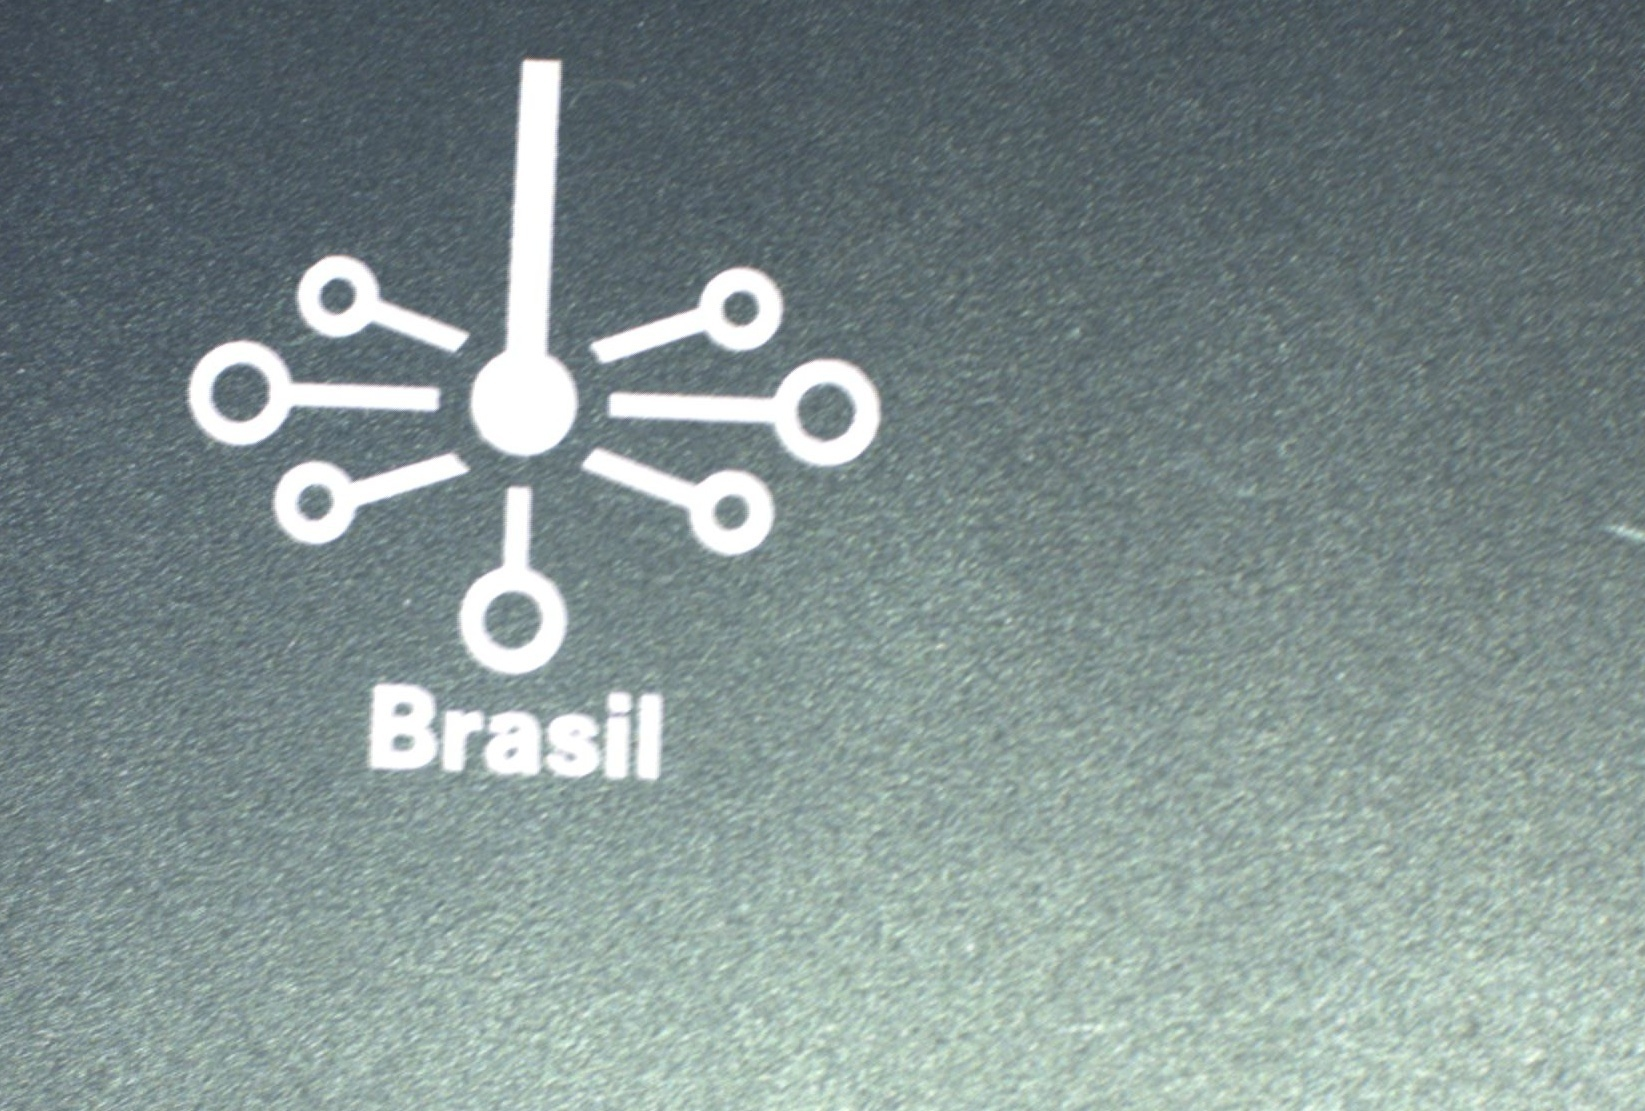BO_Brsail: (192, 48, 909, 795)
